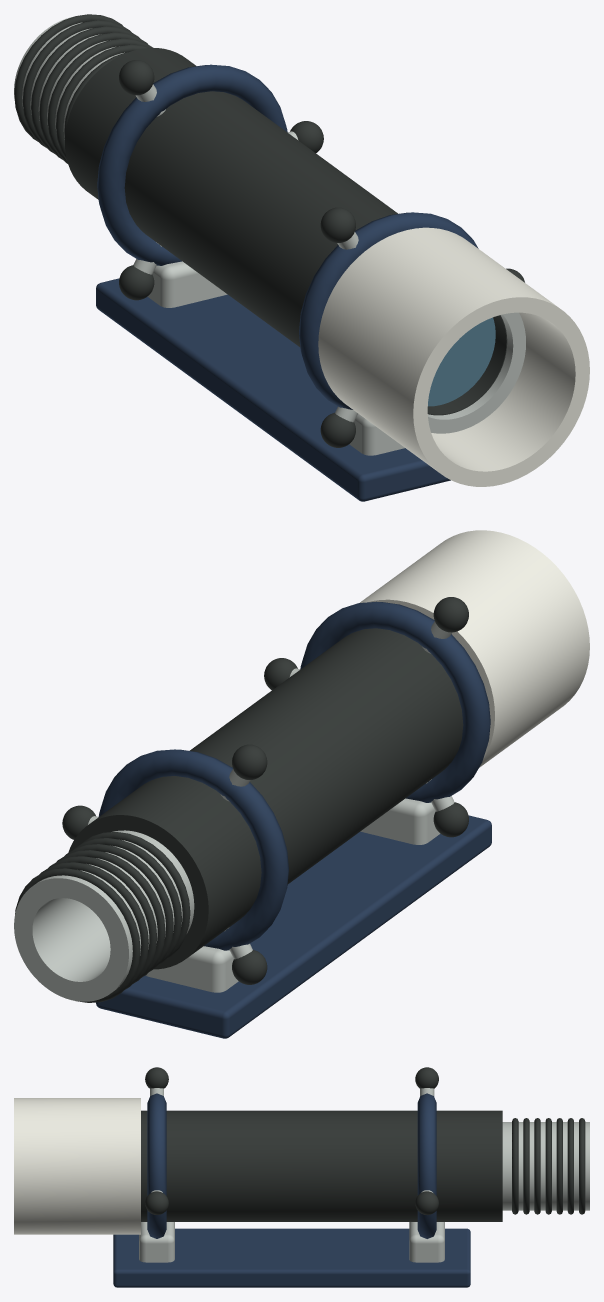
The model's file is planetarium-and-optical-observatory-guide-telescope-f97ae46f__31858.glb.
3 renders of one model, top to bottom at view 1: azimuth 30°, elevation 25°; view 2: azimuth 150°, elevation 25°; view 3: azimuth 270°, elevation 25°, orthographic. The views are drawn at different scales.
Parts seen in each view (by area): view 1: guide-telescope; view 2: guide-telescope; view 3: guide-telescope.
Part boxes in pixels (x1,y1,x2,y2): guide-telescope: (14, 14, 589, 501); guide-telescope: (14, 530, 589, 1038); guide-telescope: (14, 1067, 589, 1287).
Size of the model in its own units: 0.217 by 0.2503 by 0.725.
